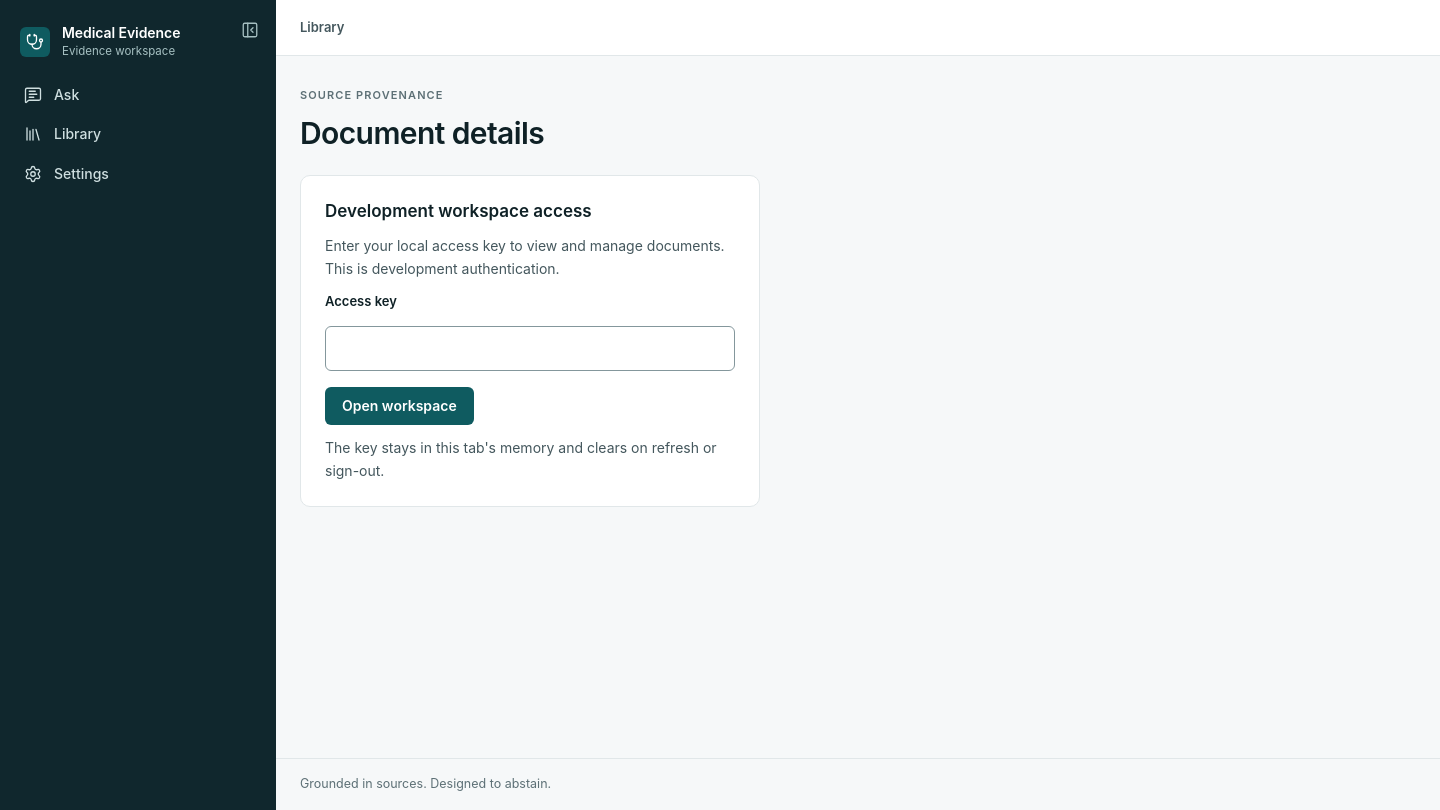
Test: M2 parse status on the document details page › never presents chunks, embeddings or retrieval as available
The width and height of the screenshot is (1440, 810).
Type "local-test-key" into the password field labelled "Access key" at (530,349), box x1=325 y1=326 x2=735 y2=371
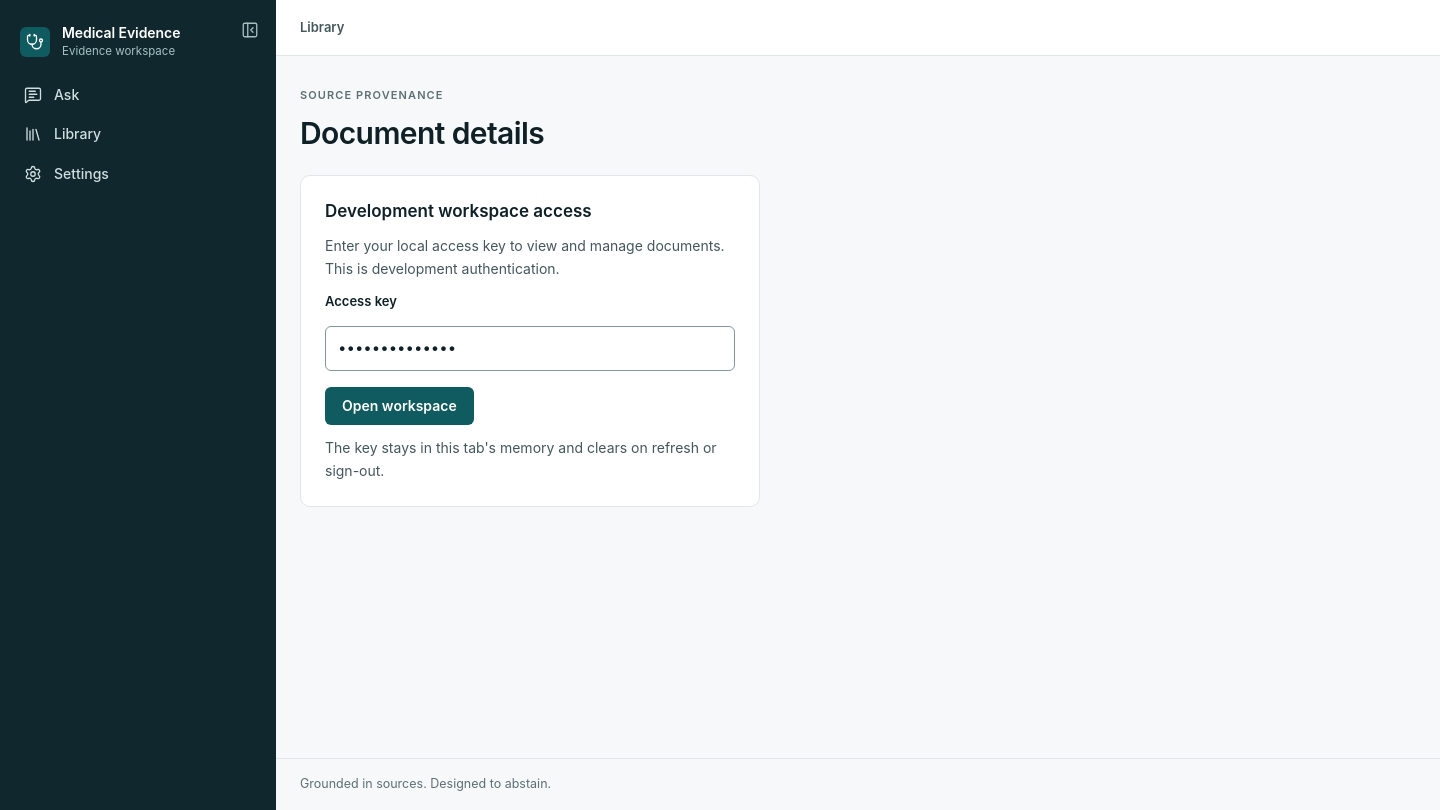
Click the button "Open workspace" at (399,406), box x1=325 y1=387 x2=474 y2=425
(page scrolled)
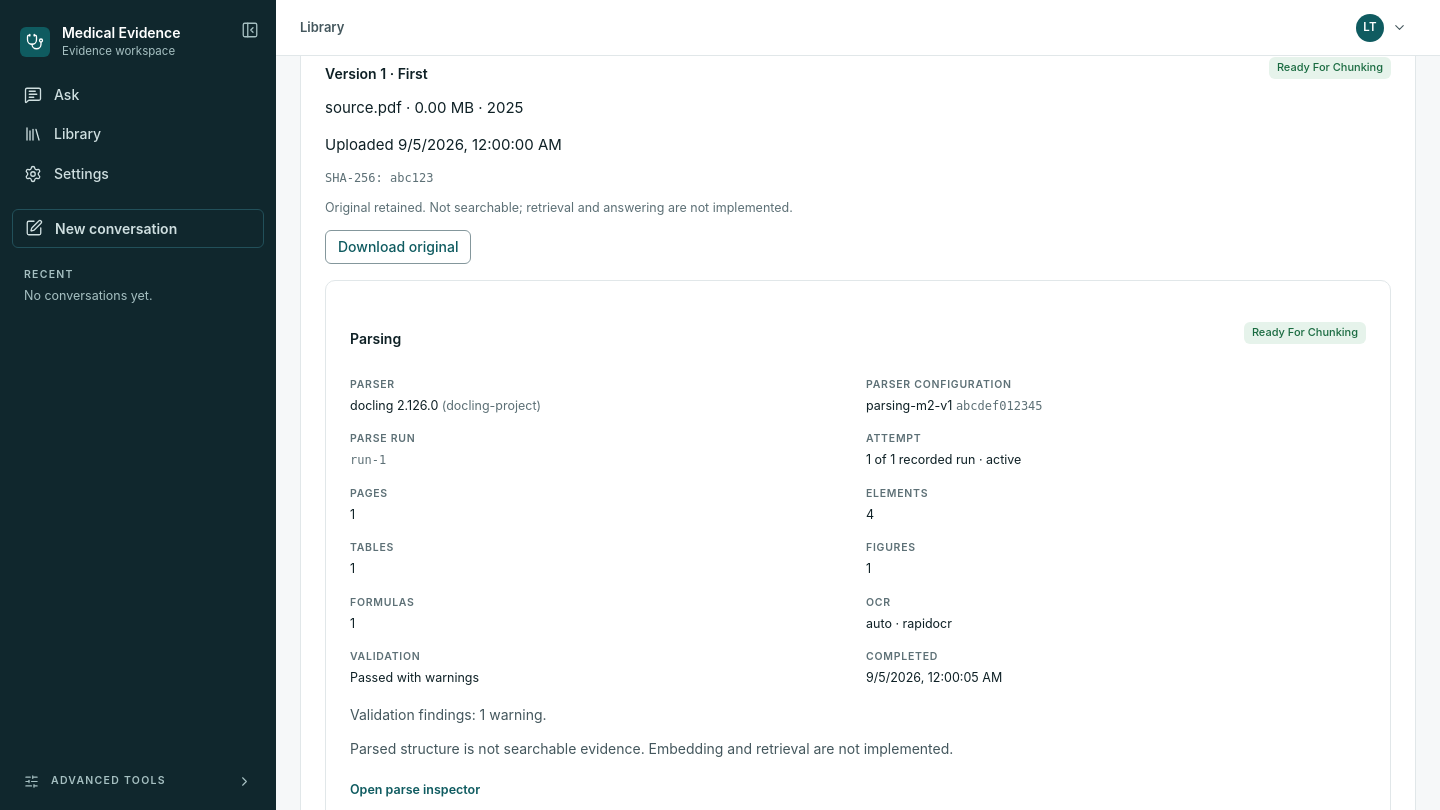
Now the button named "Account and workspace" is shown, box x1=1351 y1=8 x2=1416 y2=46
Now the text "docling 2.126.0 (docling-project)" is shown, box x1=350 y1=398 x2=541 y2=412
Now the text "Embedding and retrieval are not implemented." is shown, box x1=350 y1=740 x2=953 y2=757
